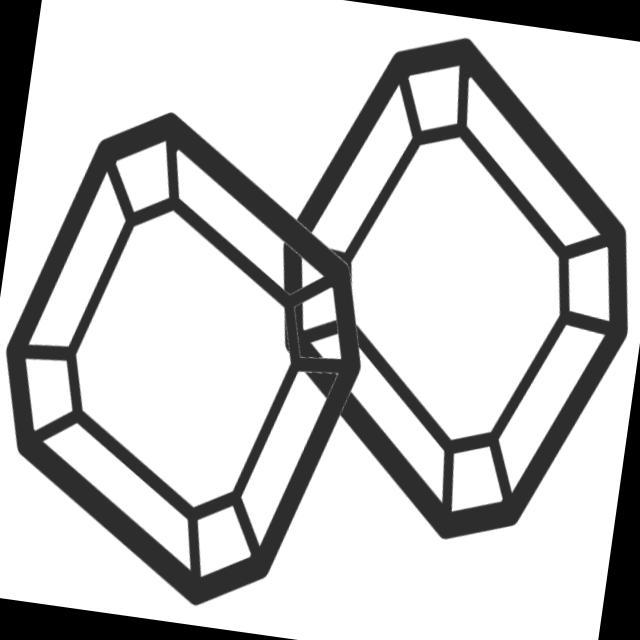emerald: (241, 11, 640, 567), (1, 89, 394, 630)
